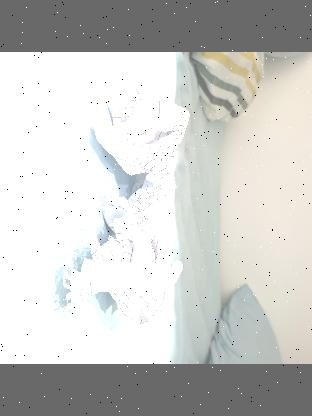Others: (58, 205, 186, 323), (91, 92, 192, 196)
